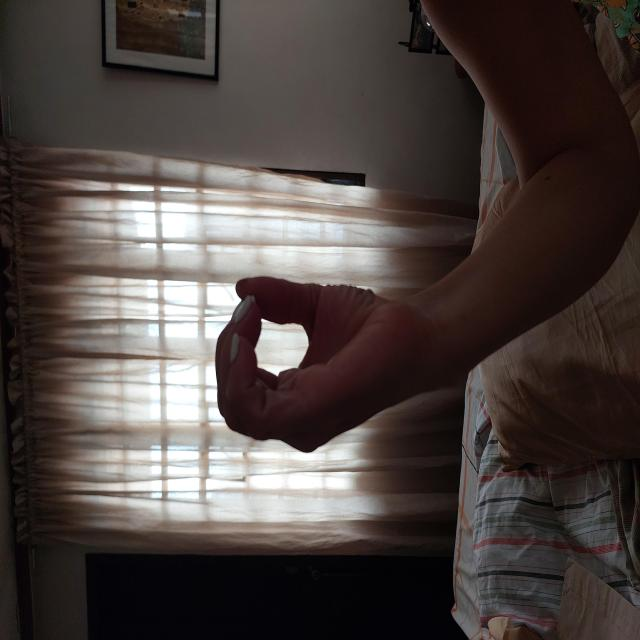O: (181, 211, 367, 421)
